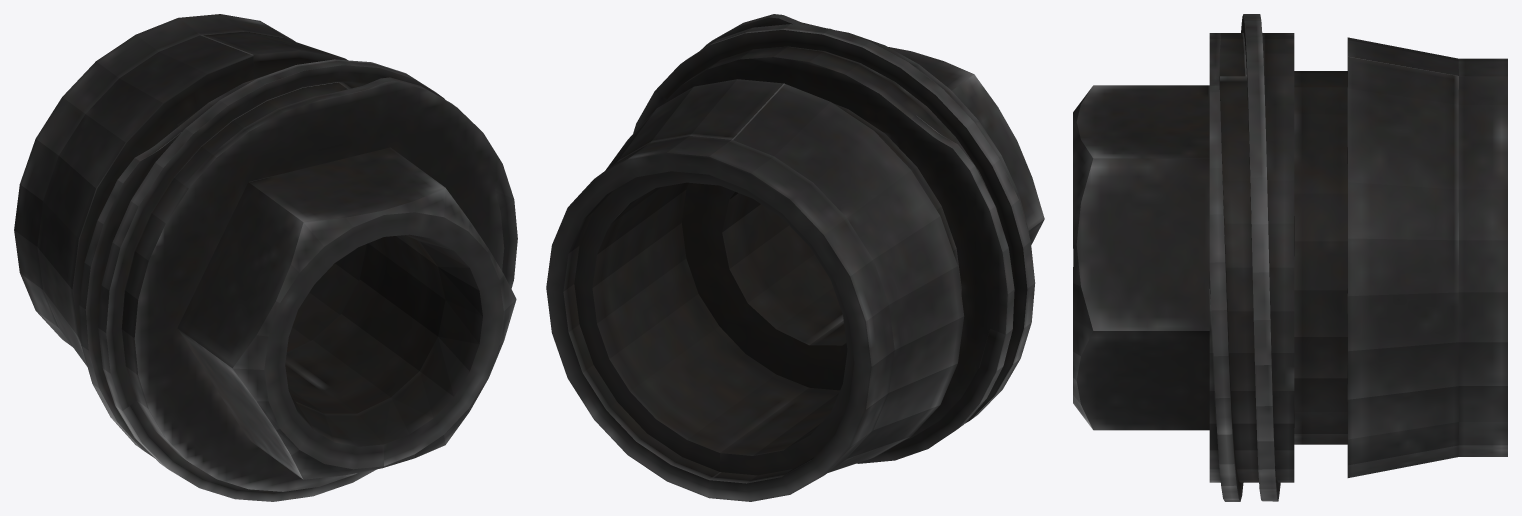
3 views of the same model, side by side, from view 1: azimuth 30°, elevation 25°; view 2: azimuth 150°, elevation 25°; view 3: azimuth 270°, elevation 25° (orthographic). The views are drawn at different scales.
Visible parts, largest first — view 1: TW_5fbc22ccf24b94483f726483_PZ_Import; view 2: TW_5fbc22ccf24b94483f726483_PZ_Import; view 3: TW_5fbc22ccf24b94483f726483_PZ_Import.
Part boxes in pixels (box(x1,y1,x2,y2)): TW_5fbc22ccf24b94483f726483_PZ_Import: box(14, 14, 517, 501); TW_5fbc22ccf24b94483f726483_PZ_Import: box(546, 14, 1044, 501); TW_5fbc22ccf24b94483f726483_PZ_Import: box(1073, 14, 1507, 501).
Size of the model in its own units: 0.0169 by 0.015 by 0.0169.
1 material, 1 textured.
